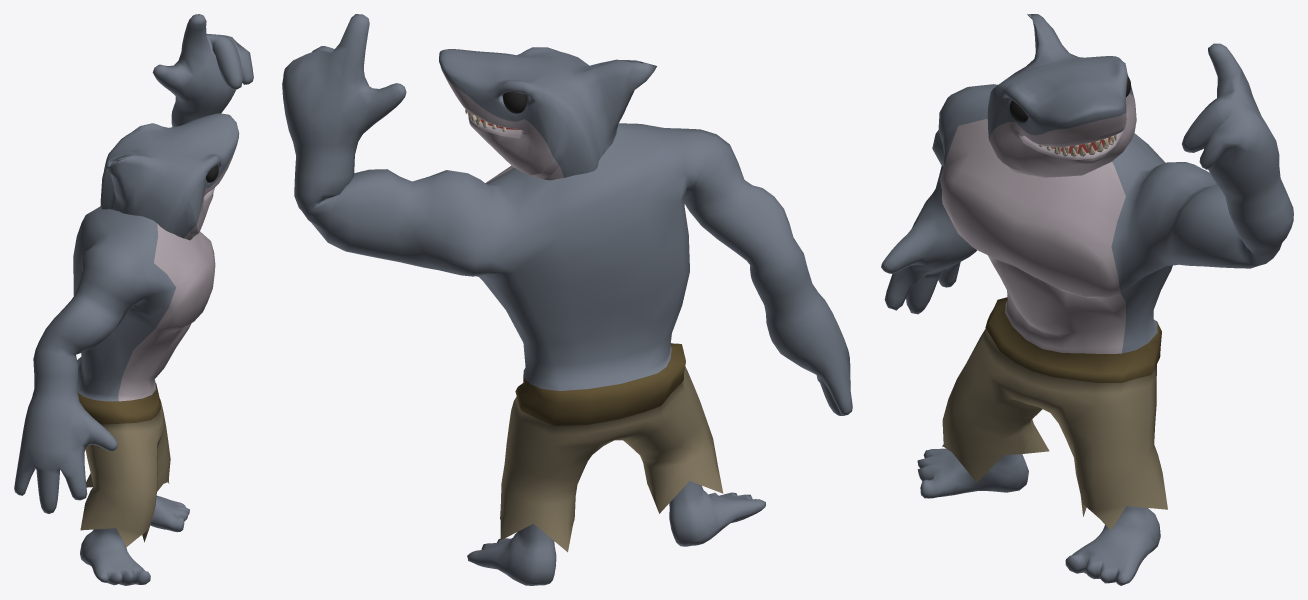
File: pirate_three.glb
The picture shows the model from 3 angles, left to right: view 1: azimuth 30°, elevation 25°; view 2: azimuth 150°, elevation 25°; view 3: azimuth 270°, elevation 25°; orthographic projection. The views are drawn at different scales.
Parts seen in each view (by area): view 1: Mako; view 2: Mako; view 3: Mako.
Boxes of the visible parts, x1=… form: Mako: x1=14, y1=14, x2=253, y2=585; Mako: x1=282, y1=14, x2=852, y2=585; Mako: x1=881, y1=14, x2=1293, y2=585.
Size of the model in its own units: 1.42 by 1.82 by 1.18.
1 material, 1 textured.
